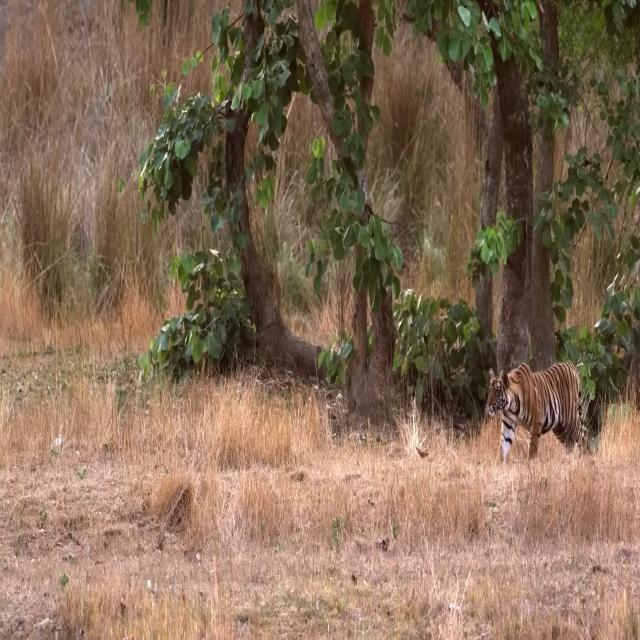tiger: (484, 361, 591, 459)
